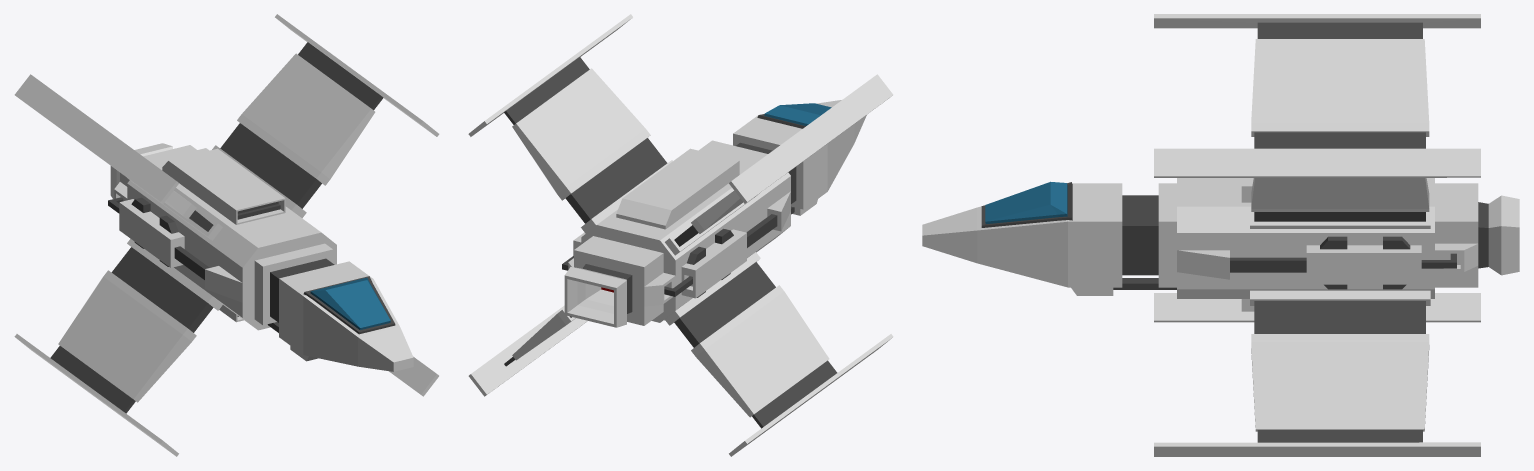
File: spaceship_2.fbx
3 renders of one model, left to right at view 1: azimuth 30°, elevation 25°; view 2: azimuth 150°, elevation 25°; view 3: azimuth 270°, elevation 25°, orthographic. The views are drawn at different scales.
Parts seen in each view (by area): view 1: Fighter_2; view 2: Fighter_2; view 3: Fighter_2.
Boxes of the visible parts, box(x1,y1,x2,y2) form: Fighter_2: box(14, 14, 439, 456); Fighter_2: box(468, 14, 893, 456); Fighter_2: box(922, 14, 1519, 456).
Bounding box in the file's own units: 39.68 × 37.49 × 65.8.
